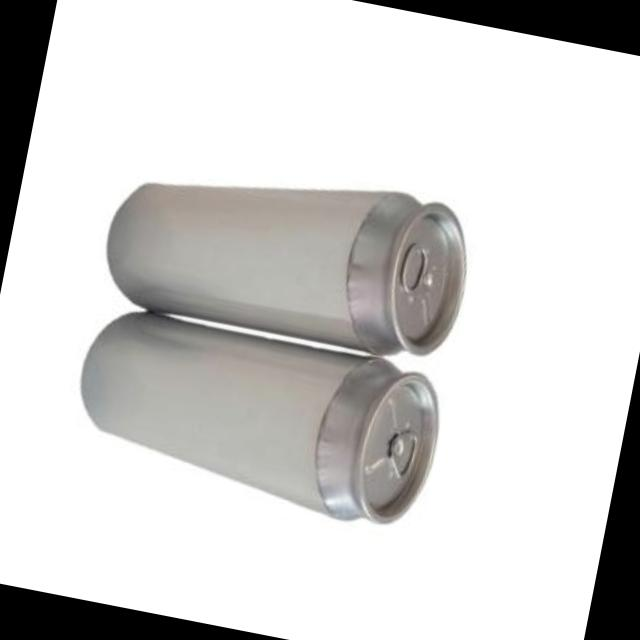metal: (84, 316, 439, 526), (110, 187, 466, 358)
